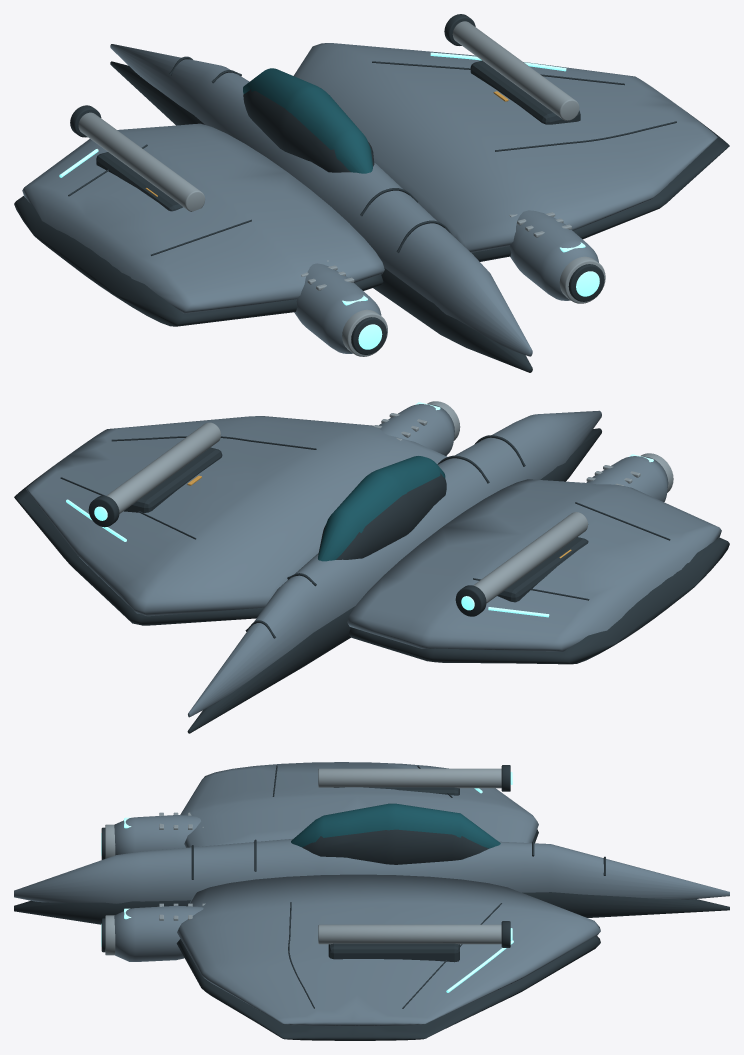
File: boss-5.glb
The picture shows the model from 3 angles, top to bottom: view 1: azimuth 30°, elevation 25°; view 2: azimuth 150°, elevation 25°; view 3: azimuth 270°, elevation 25°; orthographic projection. The views are drawn at different scales.
Visible parts, largest first — view 1: SM_Wing_Right, SM_Wing_Left, SM_Hull, SM_Engine_Right, SM_Engine_Left, SM_Weapon_Right, SM_Weapon_Left; view 2: SM_Wing_Right, SM_Wing_Left, SM_Hull, SM_Weapon_Right, SM_Weapon_Left, SM_Engine_Right, SM_Engine_Left; view 3: SM_Wing_Right, SM_Hull, SM_Wing_Left, SM_Weapon_Right, SM_Weapon_Left, SM_Engine_Right, SM_Engine_Left.
Part boxes in pixels (x1=…): SM_Wing_Right: x1=293, y1=43, x2=729, y2=261; SM_Wing_Left: x1=14, y1=123, x2=384, y2=326; SM_Hull: x1=110, y1=44, x2=532, y2=372; SM_Engine_Right: x1=509, y1=210, x2=605, y2=303; SM_Engine_Left: x1=294, y1=260, x2=387, y2=356; SM_Weapon_Right: x1=444, y1=14, x2=580, y2=124; SM_Weapon_Left: x1=70, y1=105, x2=205, y2=211; SM_Wing_Right: x1=14, y1=416, x2=447, y2=625; SM_Wing_Left: x1=347, y1=479, x2=729, y2=664; SM_Hull: x1=187, y1=410, x2=601, y2=733; SM_Weapon_Right: x1=88, y1=422, x2=222, y2=527; SM_Weapon_Left: x1=455, y1=512, x2=588, y2=616; SM_Engine_Right: x1=373, y1=401, x2=460, y2=455; SM_Engine_Left: x1=580, y1=453, x2=673, y2=501; SM_Wing_Right: x1=176, y1=874, x2=600, y2=1040; SM_Hull: x1=14, y1=803, x2=729, y2=924; SM_Wing_Left: x1=180, y1=762, x2=538, y2=847; SM_Weapon_Right: x1=318, y1=921, x2=512, y2=962; SM_Weapon_Left: x1=318, y1=765, x2=512, y2=795; SM_Engine_Right: x1=101, y1=903, x2=205, y2=961; SM_Engine_Left: x1=101, y1=812, x2=203, y2=859.
Bounding box in the file's own units: 6.76 × 1.48 × 8.
